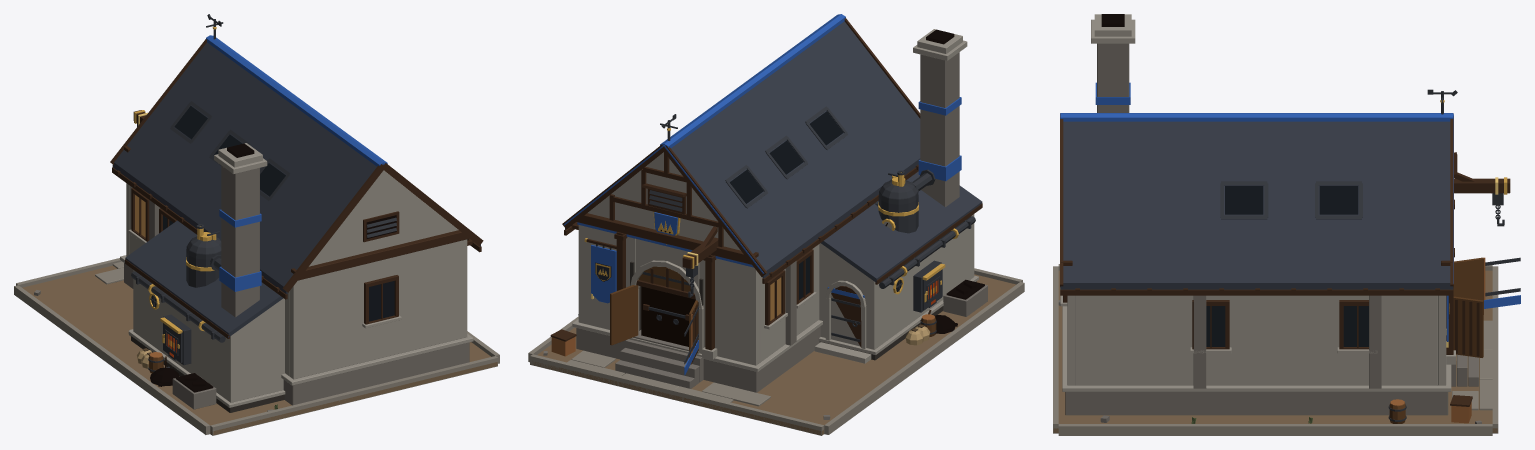
The model's file is 蒸汽车坊_训练.glb.
3 views of the same model, side by side, from view 1: azimuth 30°, elevation 25°; view 2: azimuth 150°, elevation 25°; view 3: azimuth 270°, elevation 25° (orthographic). The views are drawn at different scales.
Visible parts, largest first — view 1: SW-主体, SW-自发光, SW-team; view 2: SW-主体, SW-team, SW-自发光; view 3: SW-主体, SW-team, SW-自发光.
Boxes of the visible parts, x1,y1,x2,y2 form: SW-主体: (14, 14, 499, 435); SW-自发光: (135, 106, 396, 392); SW-team: (206, 35, 387, 337); SW-主体: (528, 18, 1024, 435); SW-team: (563, 14, 961, 375); SW-自发光: (595, 29, 984, 334); SW-主体: (1053, 14, 1520, 435); SW-team: (1060, 82, 1520, 341); SW-自发光: (1101, 14, 1449, 346).
Size of the model in its own units: 12.16 by 10.04 by 14.81.
Materials: 4 (2 with a texture image).
